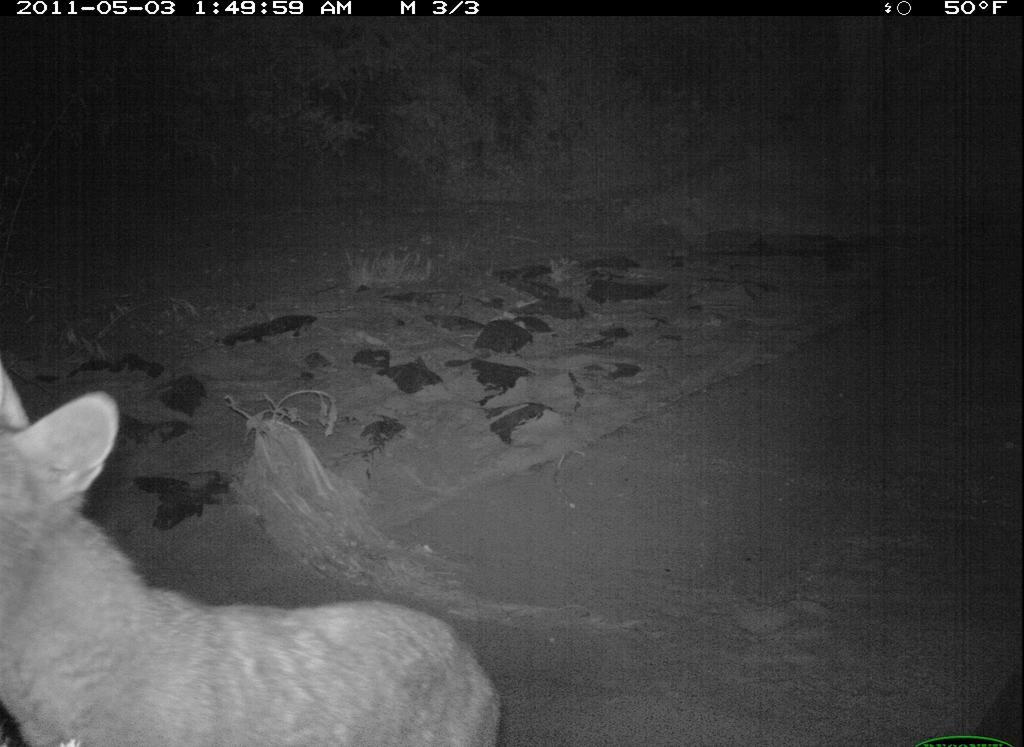coyote: (1, 361, 506, 747)
